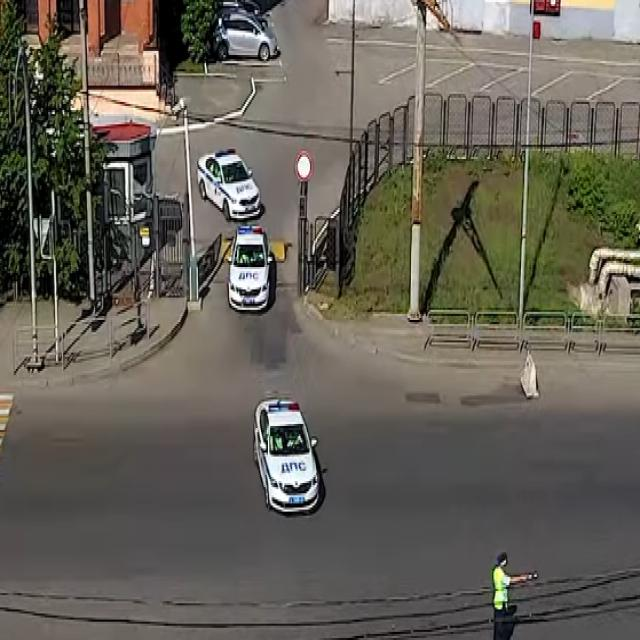non emergency car: (211, 9, 280, 63)
police car: (254, 398, 322, 516), (198, 147, 262, 221), (227, 225, 274, 315)
